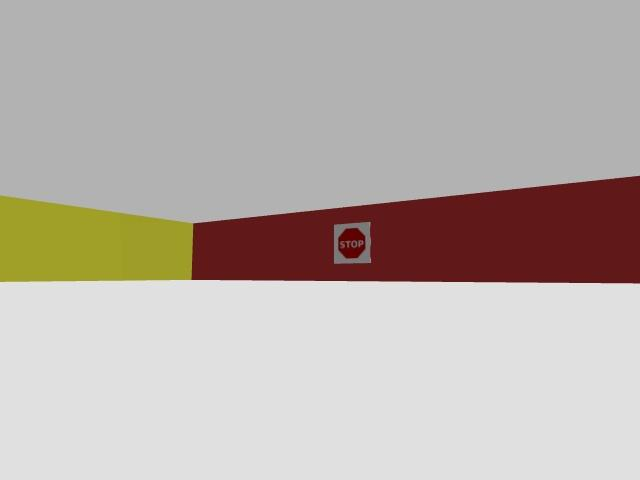stopsign: (334, 223, 370, 263)
